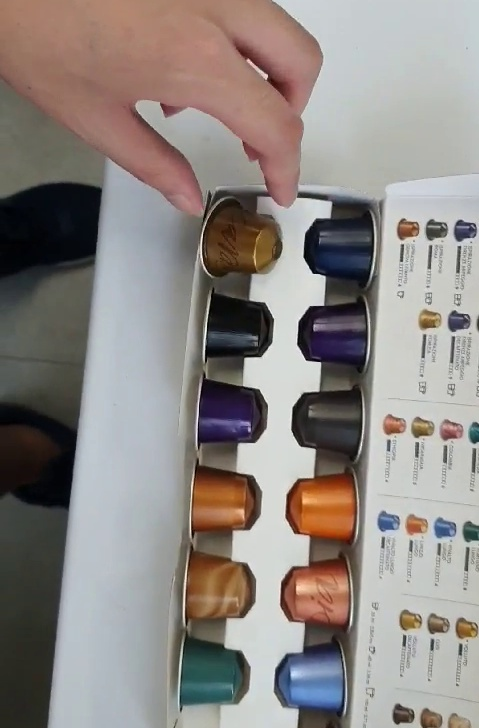capsule_9: (194, 195, 282, 281)
